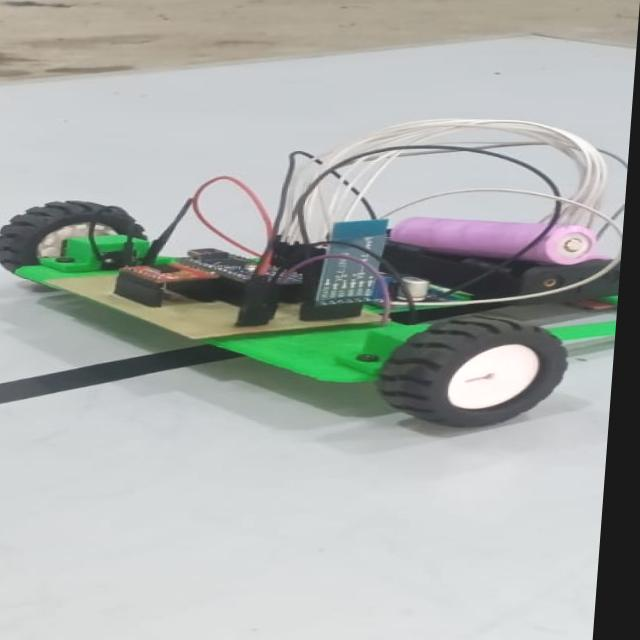vehicle: (0, 117, 631, 422)
